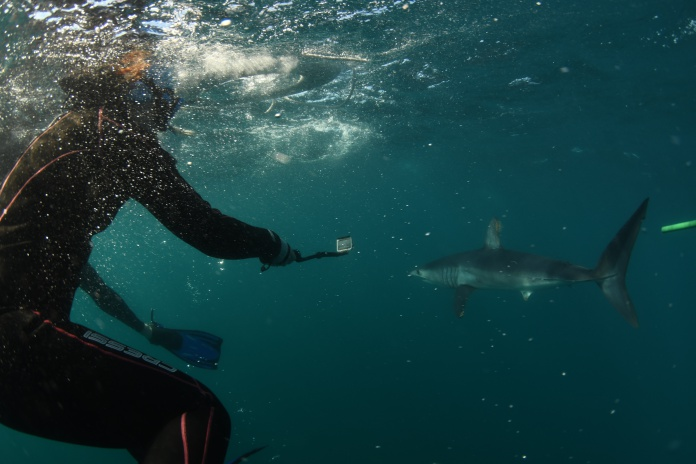Mako: (402, 192, 668, 324)
